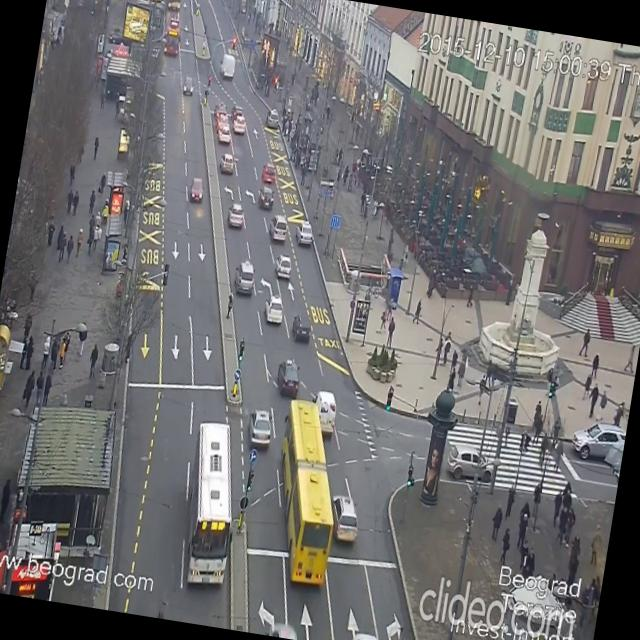bus: (260, 397, 352, 588), (174, 418, 248, 588), (162, 16, 184, 56), (164, 0, 184, 9)
car: (570, 418, 626, 463), (444, 444, 496, 486), (326, 493, 363, 543), (306, 388, 339, 437), (244, 408, 274, 449), (274, 356, 302, 398), (232, 259, 258, 296), (262, 292, 288, 326), (290, 312, 313, 343), (274, 249, 295, 279), (294, 222, 314, 249), (255, 186, 274, 214), (267, 216, 289, 240), (226, 202, 244, 229), (188, 176, 206, 202), (220, 52, 237, 78), (216, 124, 235, 147), (261, 162, 277, 187), (267, 110, 282, 132), (220, 154, 235, 174), (181, 74, 194, 96), (234, 113, 248, 132), (231, 102, 245, 119), (216, 112, 230, 128), (215, 105, 228, 119)
